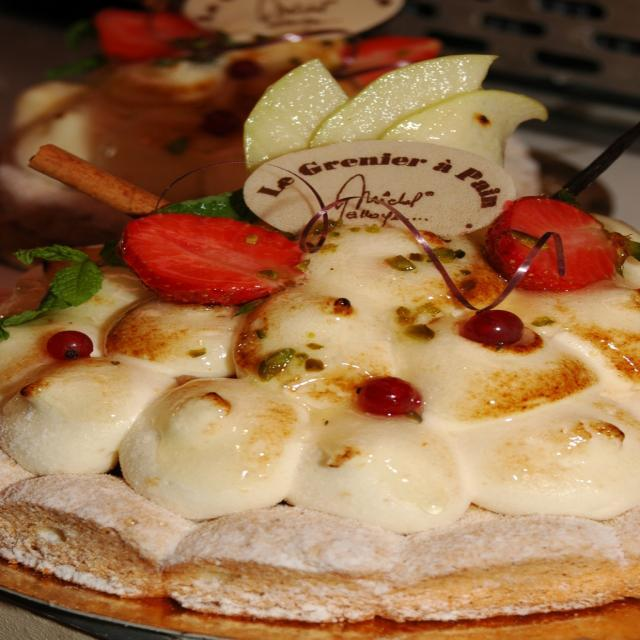Strawberry: (127, 213, 297, 301)
